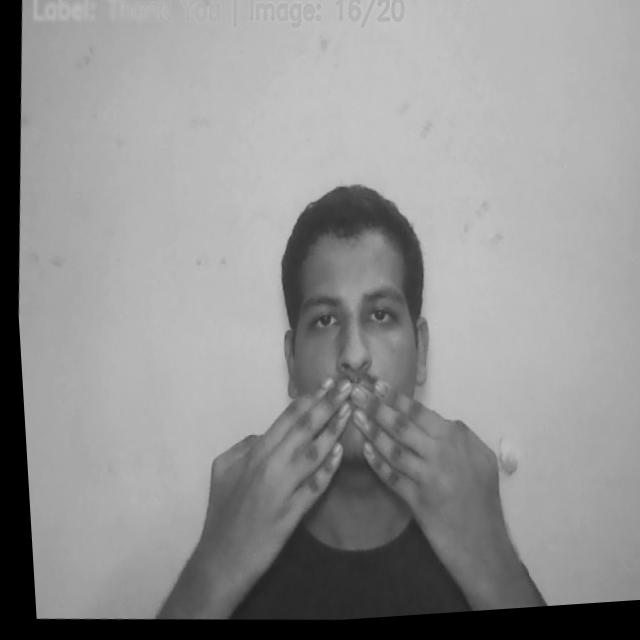Thank You: (192, 365, 511, 611)
